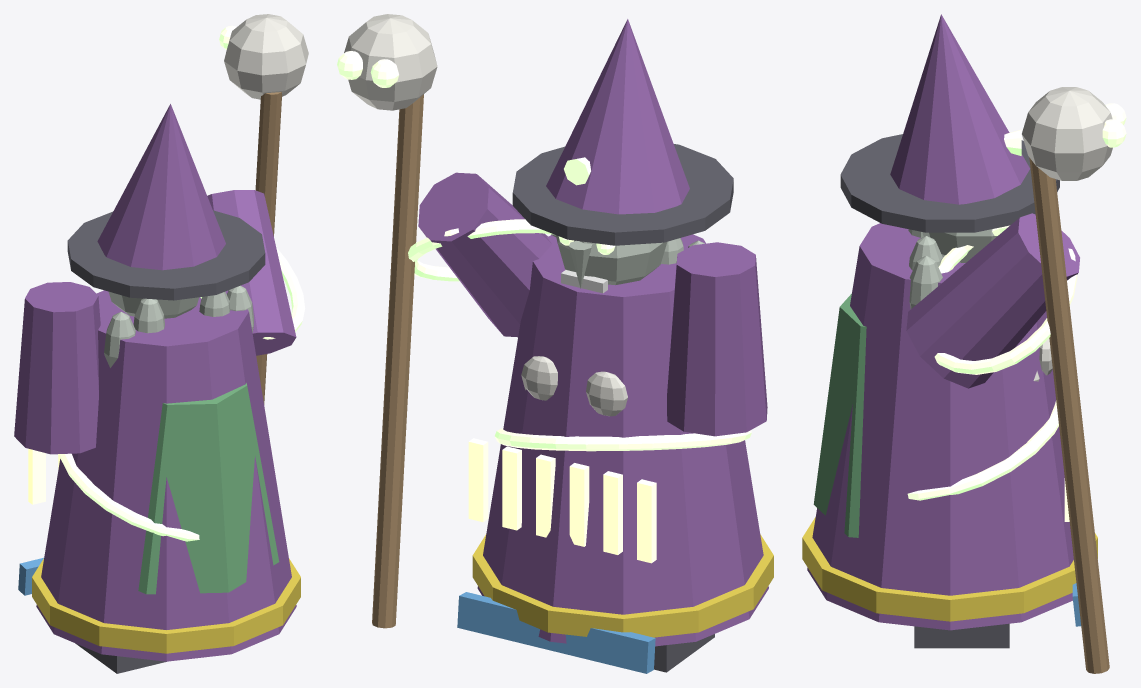
File: mother_witch.glb
3 renders of one model, left to right at view 1: azimuth 30°, elevation 25°; view 2: azimuth 150°, elevation 25°; view 3: azimuth 270°, elevation 25°, orthographic. The views are drawn at different scales.
Visible parts, largest first — view 1: mother_witch; view 2: mother_witch; view 3: mother_witch.
Part boxes in pixels (left/top/right/bottom): mother_witch: left=14, top=14, right=308, bottom=673; mother_witch: left=337, top=14, right=773, bottom=673; mother_witch: left=802, top=14, right=1126, bottom=673.
Size of the model in its own units: 1.73 by 2.8 by 1.36.
